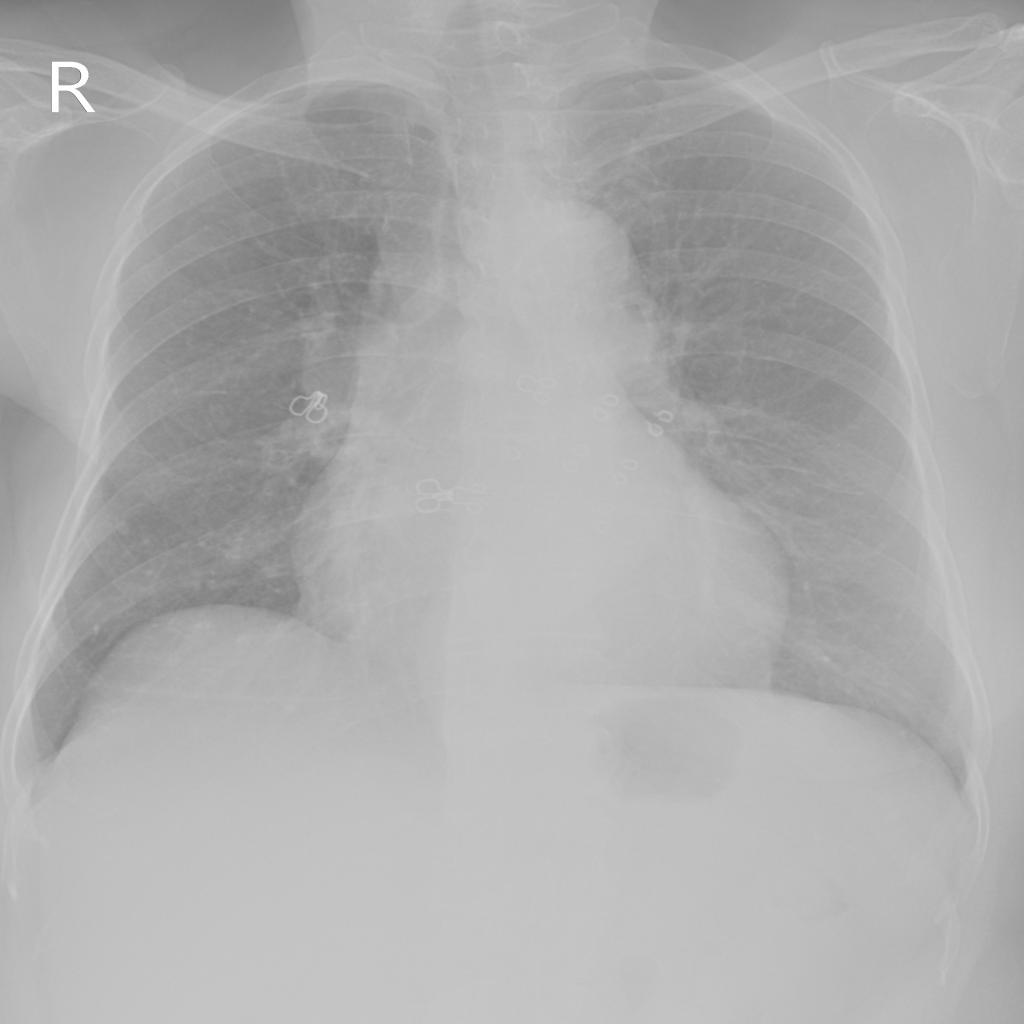Nodule: (112, 521, 130, 535)
